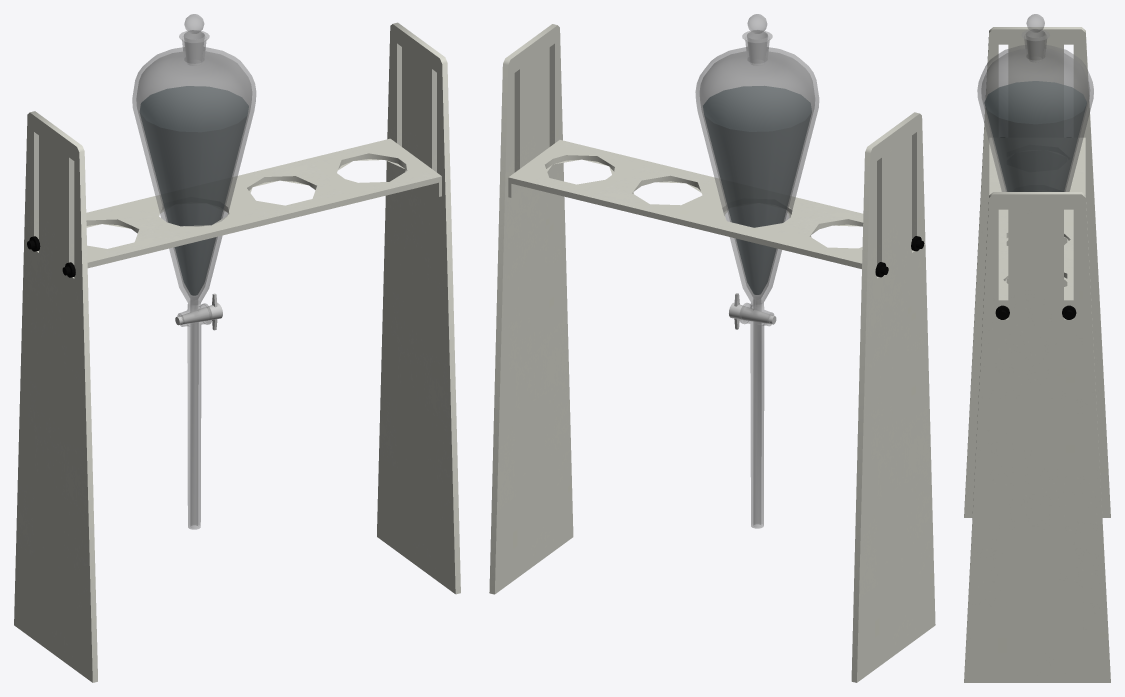
File: SM_分液漏斗.FBX
3 views of the same model, side by side, from view 1: azimuth 30°, elevation 25°; view 2: azimuth 150°, elevation 25°; view 3: azimuth 270°, elevation 25° (orthographic). The views are drawn at different scales.
Parts seen in each view (by area): view 1: SM_漏斗架, SM_分液漏斗, SM_分液漏斗液体, SM_分液漏斗瓶塞001, SM_分液漏斗瓶塞002; view 2: SM_漏斗架, SM_分液漏斗, SM_分液漏斗液体, SM_分液漏斗瓶塞001, SM_分液漏斗瓶塞002; view 3: SM_漏斗架, SM_分液漏斗, SM_分液漏斗液体, SM_分液漏斗瓶塞001.
Part boxes in pixels (x1,y1,x2,y2): SM_漏斗架: [14, 22, 460, 682]; SM_分液漏斗: [132, 30, 256, 529]; SM_分液漏斗液体: [140, 86, 248, 295]; SM_分液漏斗瓶塞001: [184, 14, 204, 65]; SM_分液漏斗瓶塞002: [175, 293, 222, 330]; SM_漏斗架: [489, 24, 935, 682]; SM_分液漏斗: [695, 30, 819, 528]; SM_分液漏斗液体: [703, 86, 811, 294]; SM_分液漏斗瓶塞001: [747, 14, 767, 65]; SM_分液漏斗瓶塞002: [729, 293, 776, 329]; SM_漏斗架: [964, 27, 1110, 682]; SM_分液漏斗: [977, 29, 1093, 191]; SM_分液漏斗液体: [984, 81, 1086, 191]; SM_分液漏斗瓶塞001: [1026, 14, 1045, 61].
Bounding box in the file's own units: 0.2142 × 0.0764 × 0.3239.
